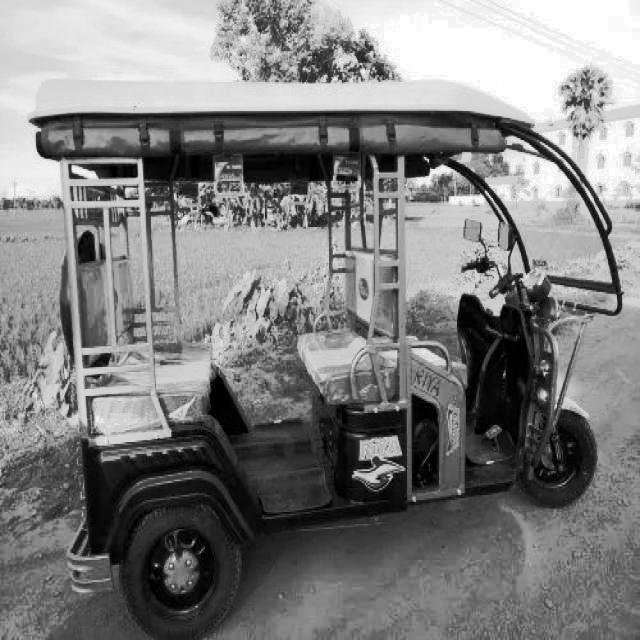Toto: (38, 67, 622, 640)
